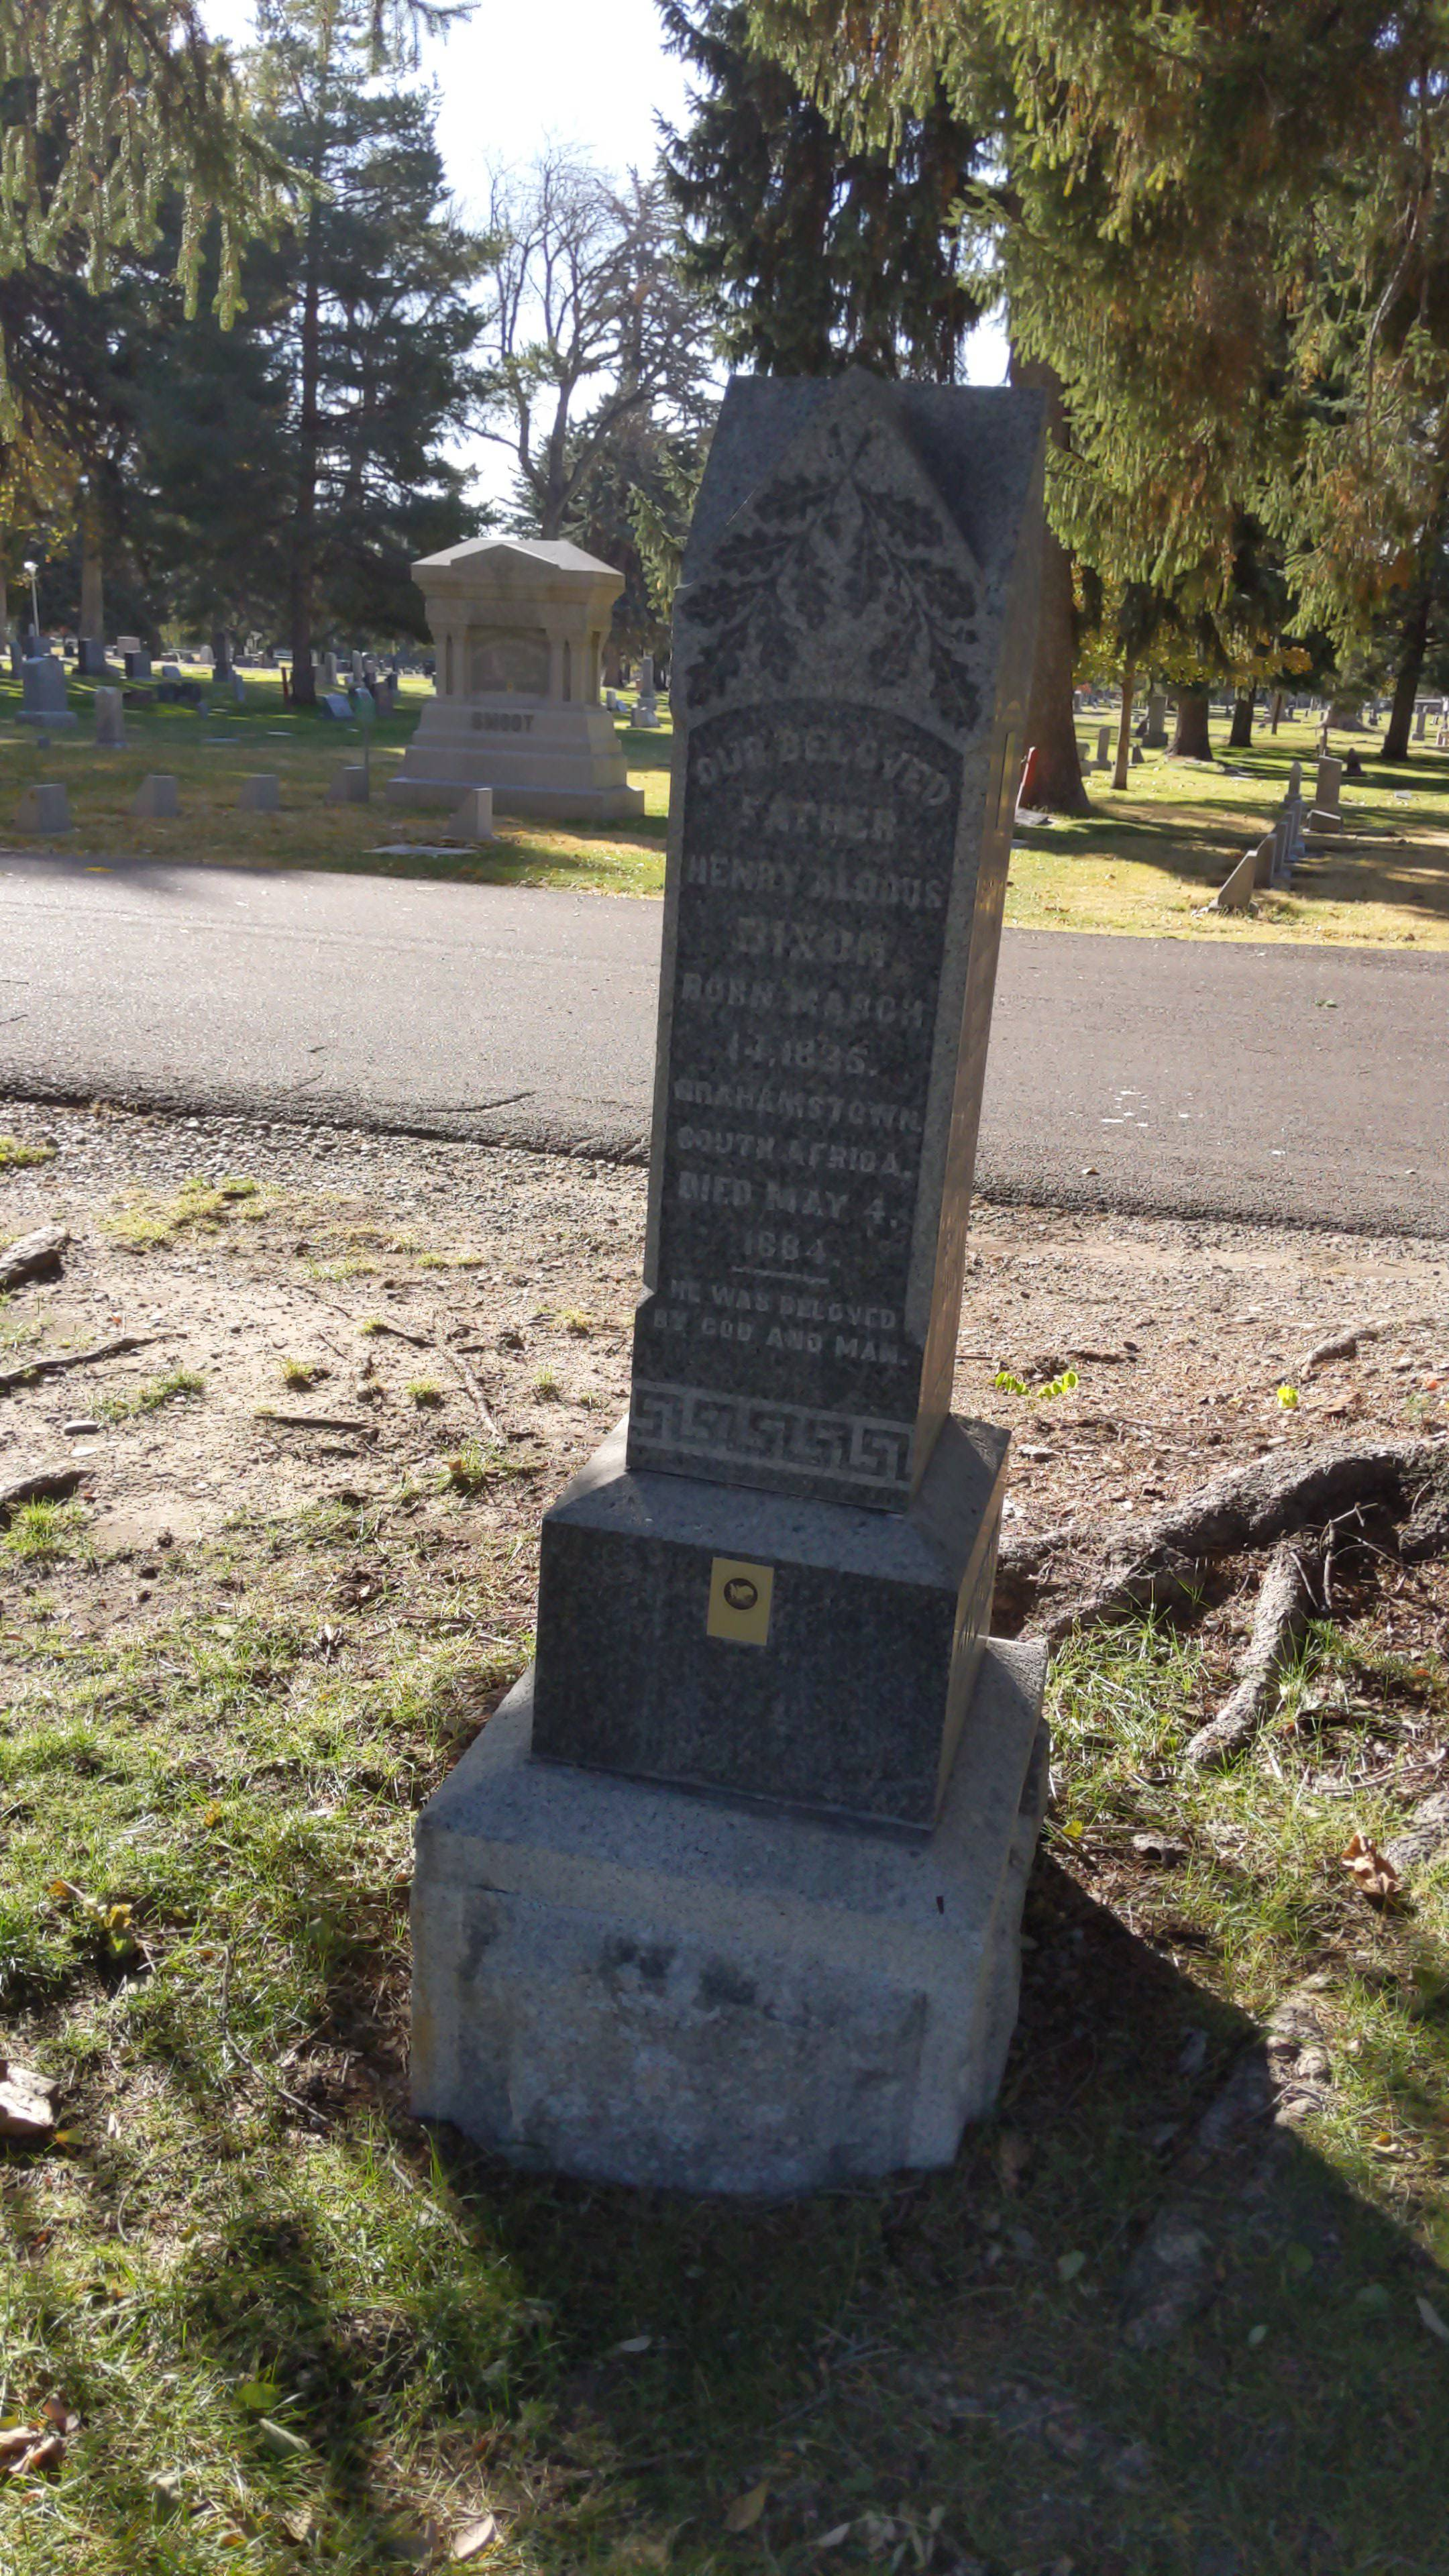obelisk: (541, 356, 1014, 1838)
